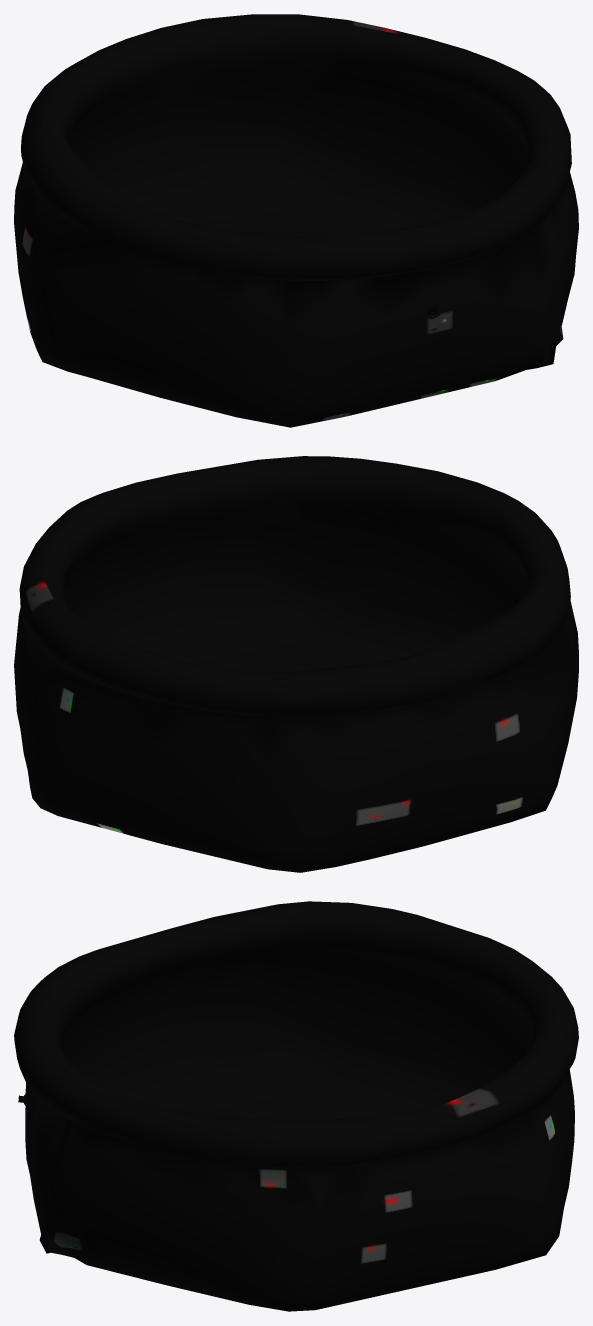
Rendered from paddlingpool.static.glb.
3 views of the same model, one above another, from view 1: azimuth 30°, elevation 25°; view 2: azimuth 150°, elevation 25°; view 3: azimuth 270°, elevation 25° (orthographic).
Parts seen in each view (by area): view 1: paddling_pool; view 2: paddling_pool; view 3: paddling_pool.
Boxes of the visible parts, x1,y1,x2,y2 form: paddling_pool: [14, 14, 578, 427]; paddling_pool: [14, 456, 578, 872]; paddling_pool: [14, 901, 578, 1311].
Size of the model in its own units: 2.5 by 0.8858 by 2.42.
Materials: 1 (1 with a texture image).
